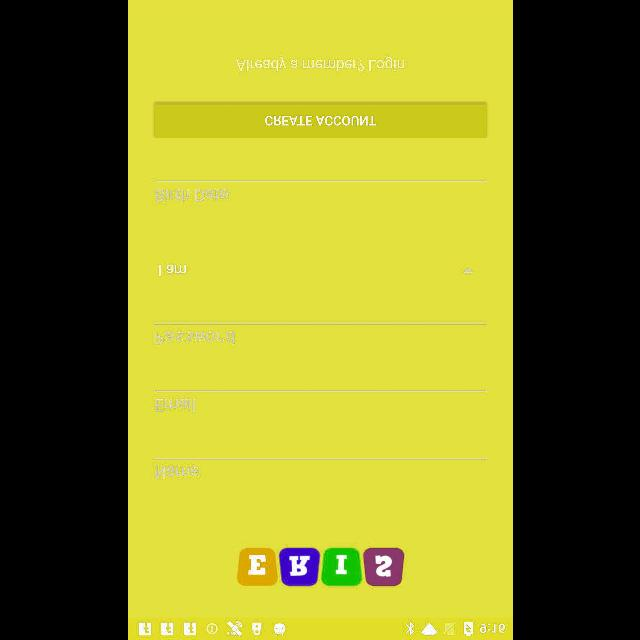icon: (462, 268, 472, 272)
image: (236, 548, 404, 586)
input: (154, 390, 486, 412), (154, 323, 486, 345), (154, 181, 486, 203), (154, 458, 486, 478)
text: (236, 56, 404, 72), (154, 188, 228, 202), (154, 332, 233, 344), (154, 398, 193, 412), (154, 466, 198, 478), (158, 264, 186, 276)
textbutton: (154, 104, 486, 138)
uppertaskbar: (128, 617, 512, 639)
